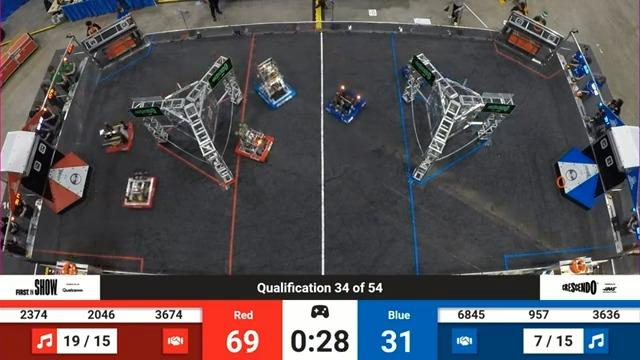robot: (251, 59, 296, 116), (91, 112, 140, 164), (115, 171, 167, 214), (231, 117, 276, 166), (324, 82, 369, 128), (393, 51, 444, 90)
